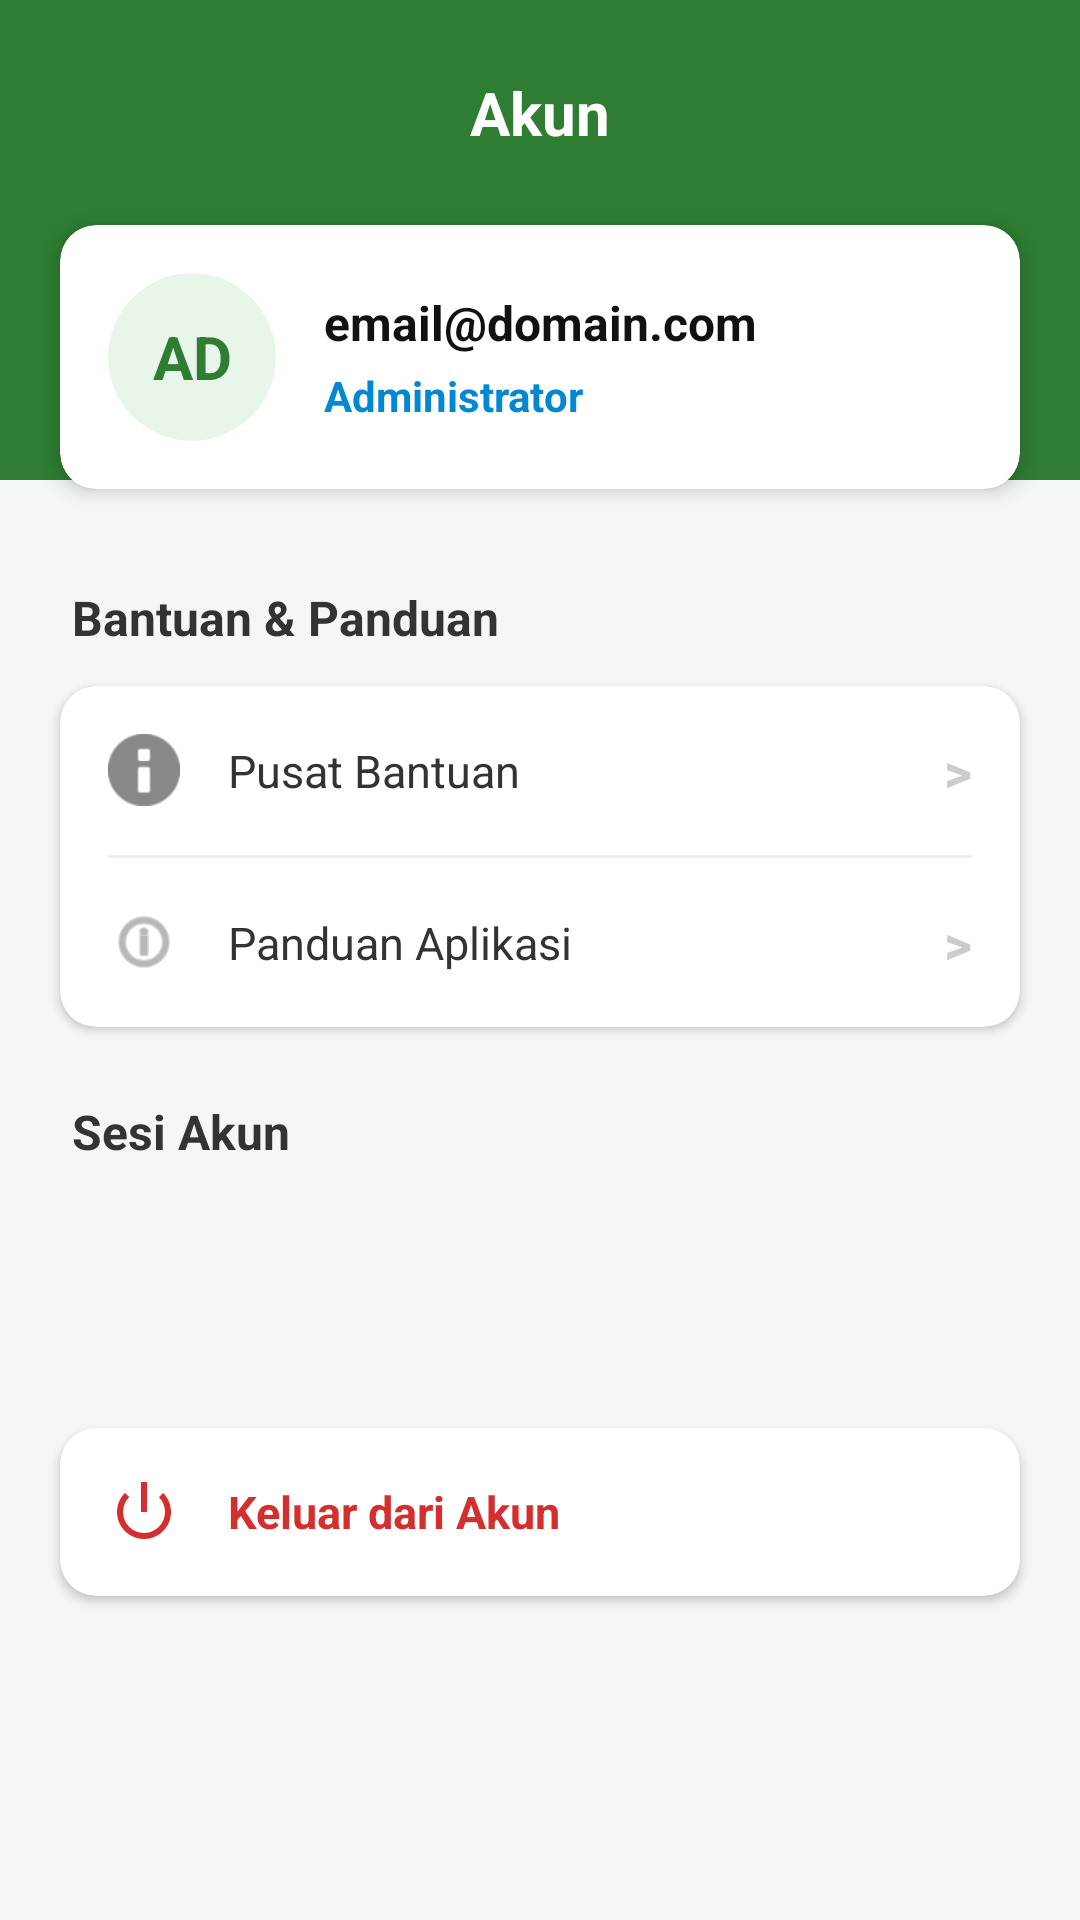

Point at icon controls on the screen. Image size 1080 × 1920, points as [x,y].
info: [144,770]
info details: [144,942]
lock power off: [144,1510]
